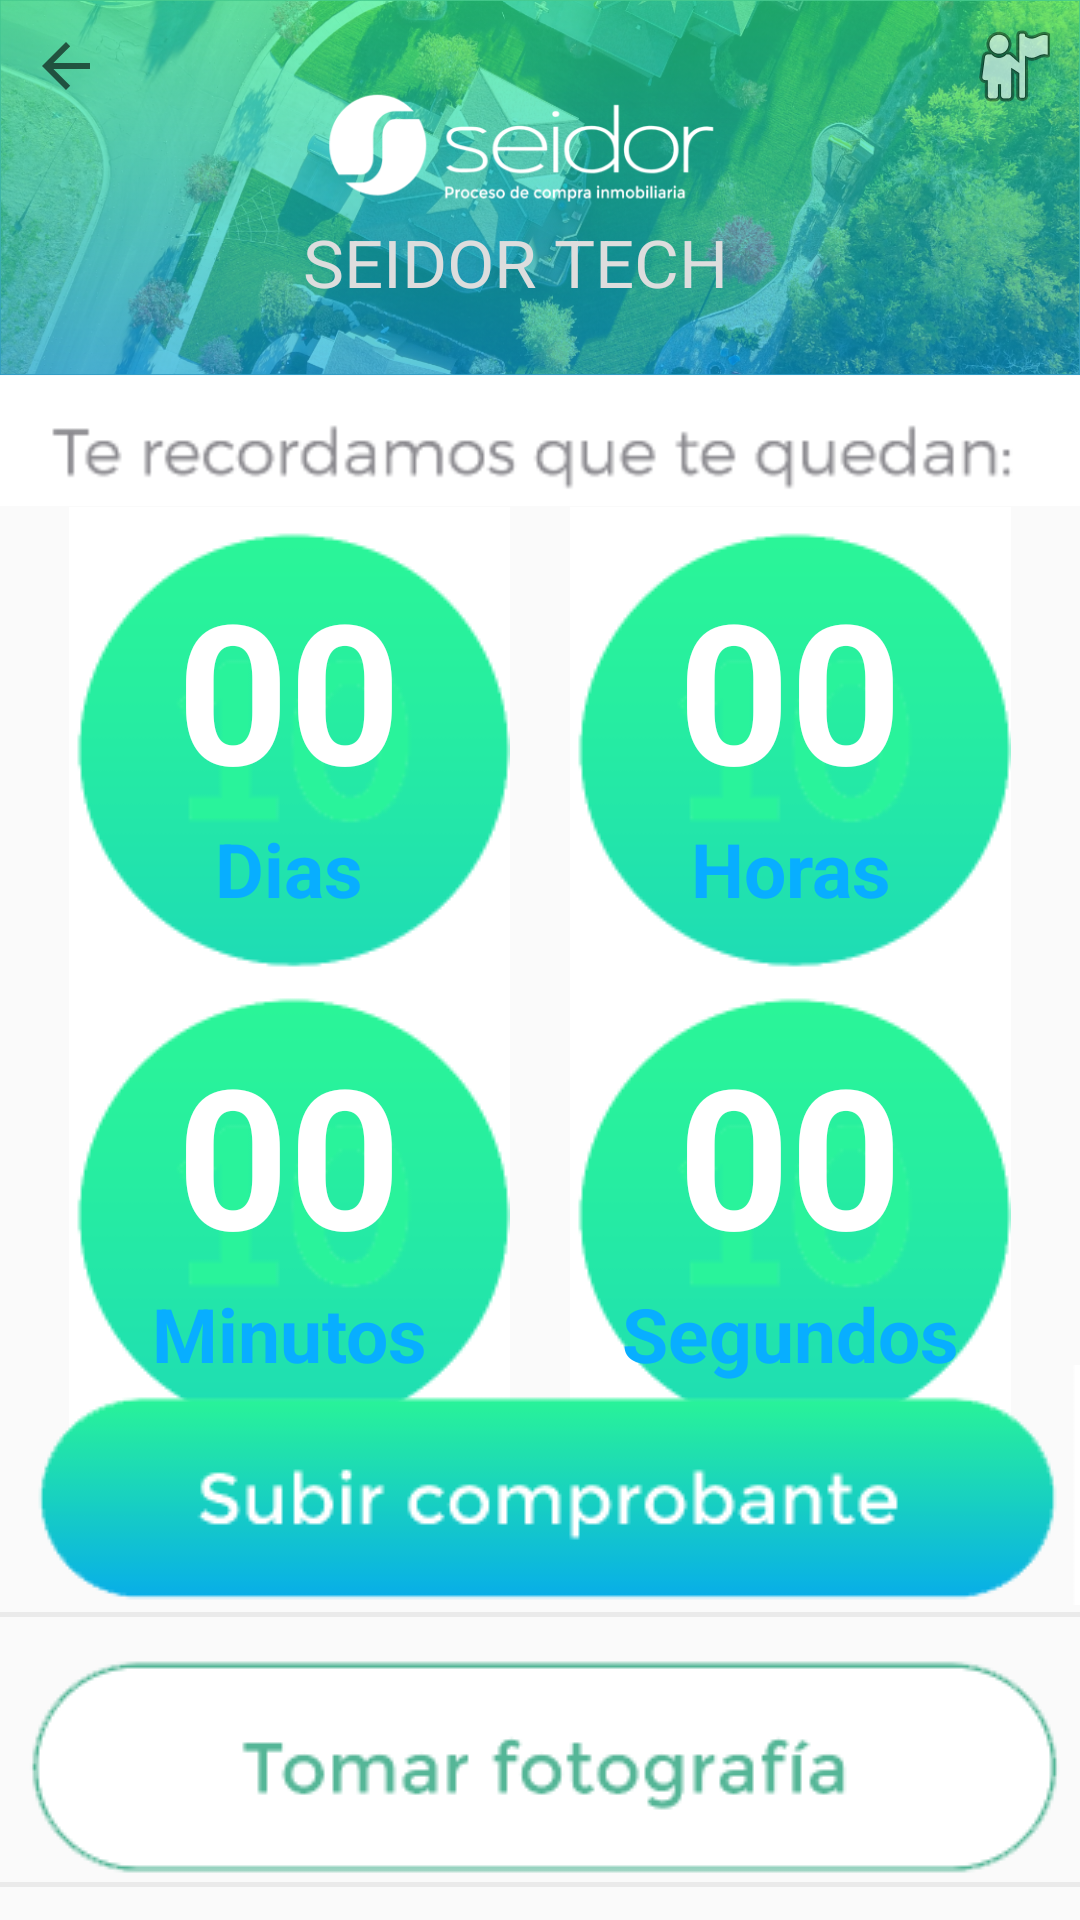

Named icons in this screenshot (1080w x 1920h) and their bounding boxes, (x1,y1,x2,y2):
myplaces: (978,30,1050,102)
